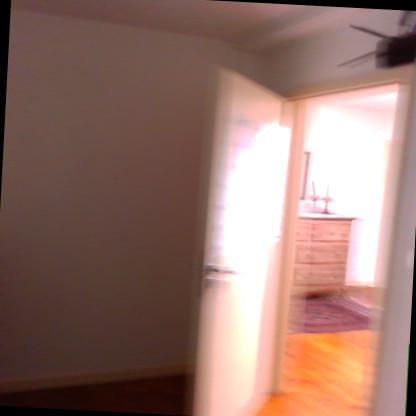semi: (183, 53, 416, 416)
